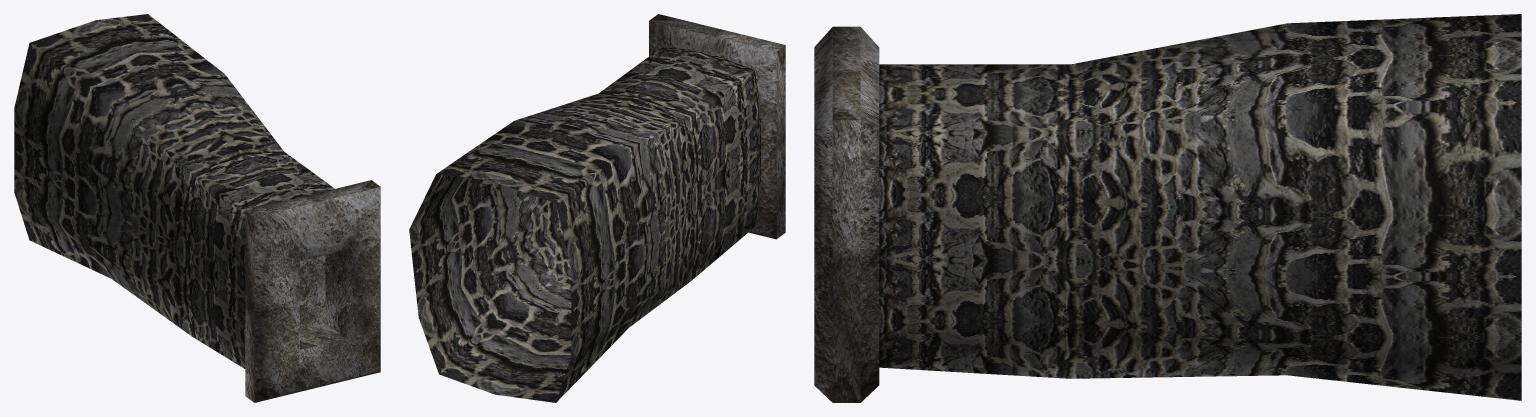
File: ex_nord_chimney_01.obj
The picture shows the model from 3 angles, left to right: view 1: azimuth 30°, elevation 25°; view 2: azimuth 150°, elevation 25°; view 3: azimuth 270°, elevation 25°; orthographic projection. The views are drawn at different scales.
Parts seen in each view (by area): view 1: Tri Ex_nord_chimney_01 3, Tri Ex_nord_chimney_01 1, Tri Ex_nord_chimney_01 0, Tri Ex_nord_chimney_01 2; view 2: Tri Ex_nord_chimney_01 0, Tri Ex_nord_chimney_01 2, Tri Ex_nord_chimney_01 1, Tri Ex_nord_chimney_01 3; view 3: Tri Ex_nord_chimney_01 0, Tri Ex_nord_chimney_01 2, Tri Ex_nord_chimney_01 1, Tri Ex_nord_chimney_01 3.
Boxes of the visible parts, x1,y1,x2,y2 form: Tri Ex_nord_chimney_01 3: (245, 180, 380, 402); Tri Ex_nord_chimney_01 1: (14, 14, 334, 253); Tri Ex_nord_chimney_01 0: (14, 20, 301, 368); Tri Ex_nord_chimney_01 2: (14, 108, 245, 338); Tri Ex_nord_chimney_01 0: (409, 50, 760, 402); Tri Ex_nord_chimney_01 2: (409, 107, 760, 354); Tri Ex_nord_chimney_01 1: (437, 47, 760, 394); Tri Ex_nord_chimney_01 3: (649, 14, 785, 239); Tri Ex_nord_chimney_01 0: (879, 14, 1521, 400); Tri Ex_nord_chimney_01 2: (879, 193, 1521, 337); Tri Ex_nord_chimney_01 1: (879, 53, 1521, 132); Tri Ex_nord_chimney_01 3: (814, 26, 879, 402).
Size of the model in its own units: 75.89 by 95.13 by 190.
4 materials, 4 textured.
